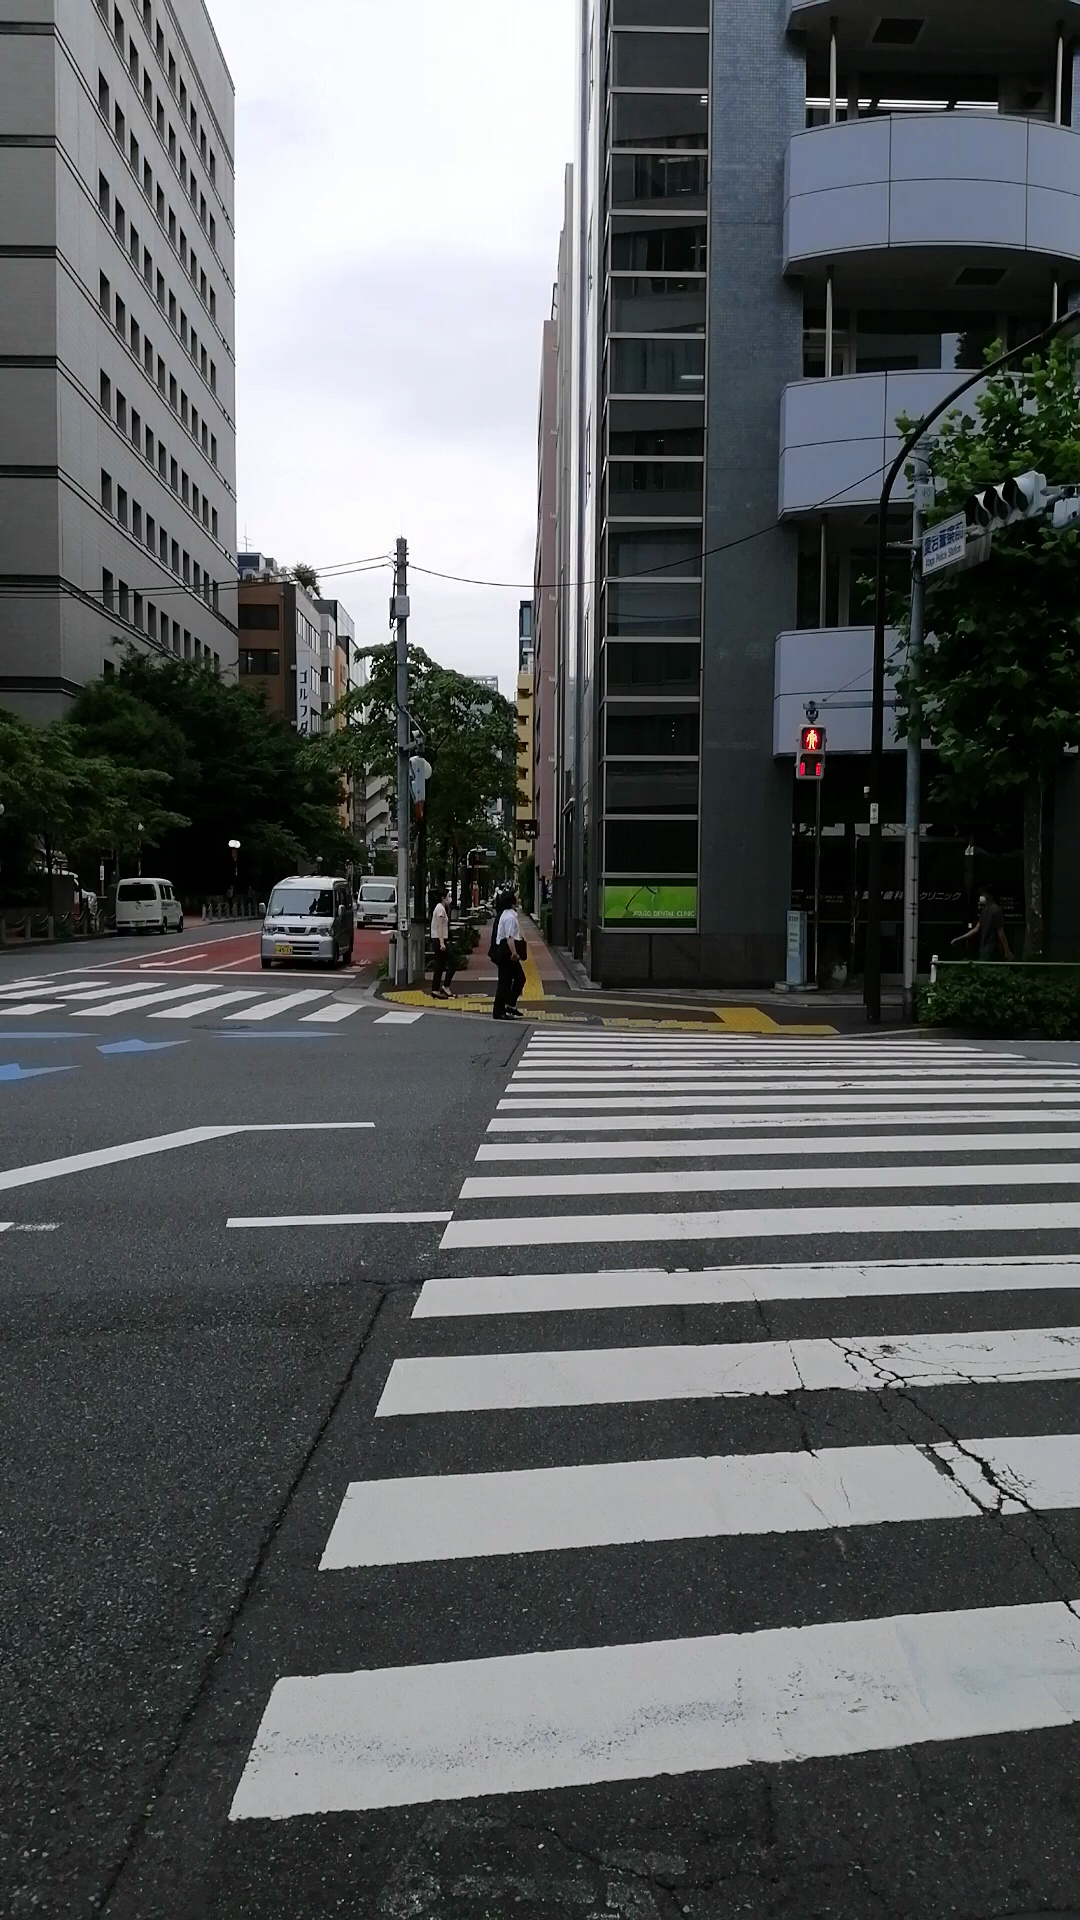red: (794, 721, 825, 781)
